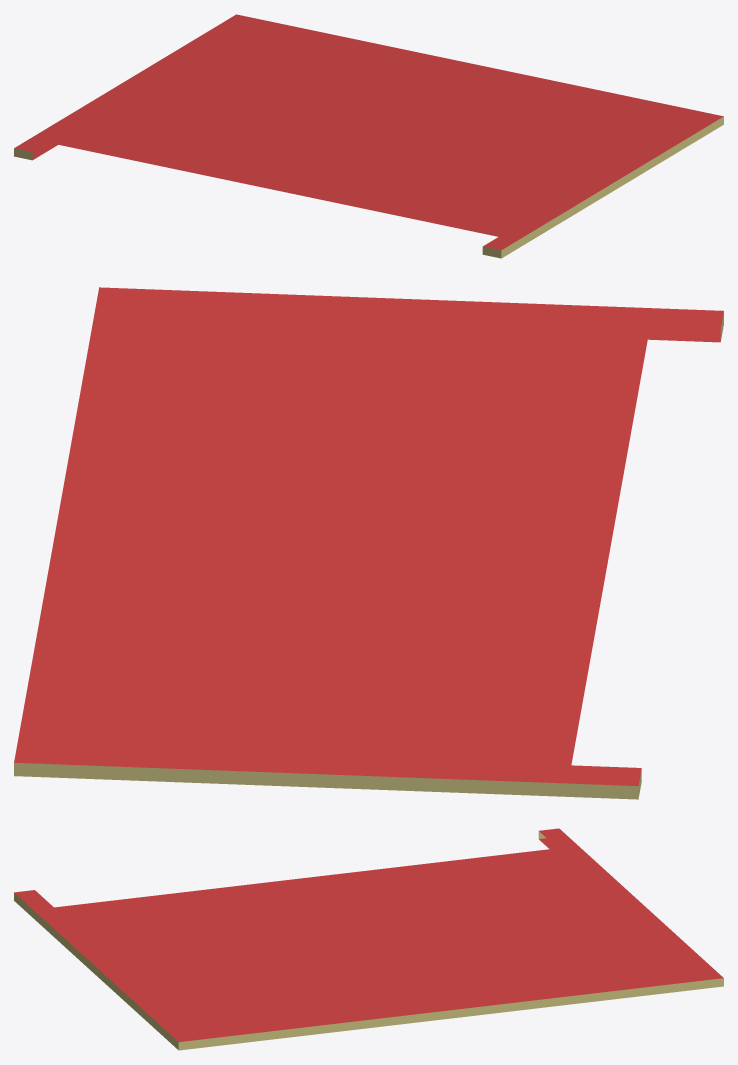
3 views of the same model, one above another, from view 1: azimuth 30°, elevation 25°; view 2: azimuth 150°, elevation 25°; view 3: azimuth 270°, elevation 25° (orthographic). The views are drawn at different scales.
Bounding box in the file's own units: 6.6 × 7.71 × 0.616.
